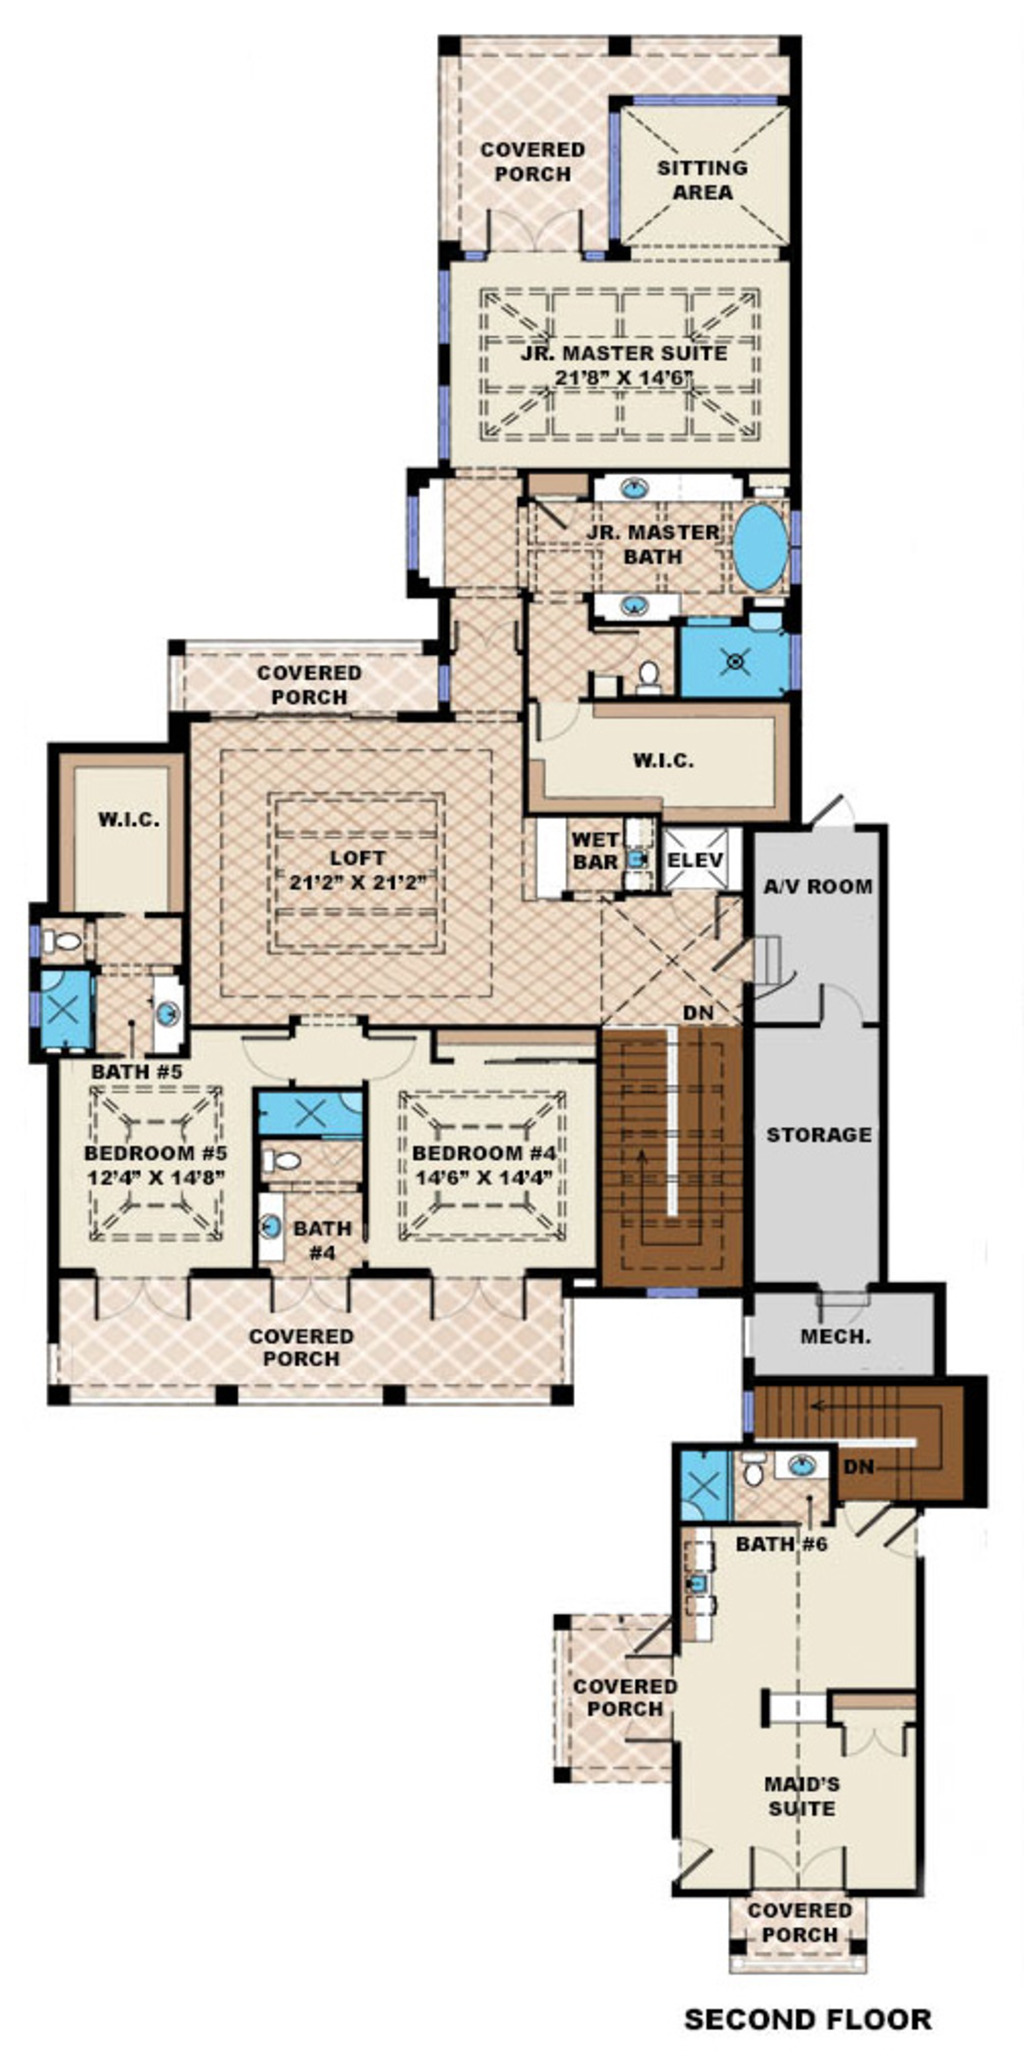door: (235, 1026, 298, 1085), (835, 1718, 915, 1763), (364, 1020, 421, 1078), (806, 976, 865, 1033)
stairs: (593, 1024, 754, 1294), (750, 1383, 987, 1513)
tub: (719, 493, 792, 602)
